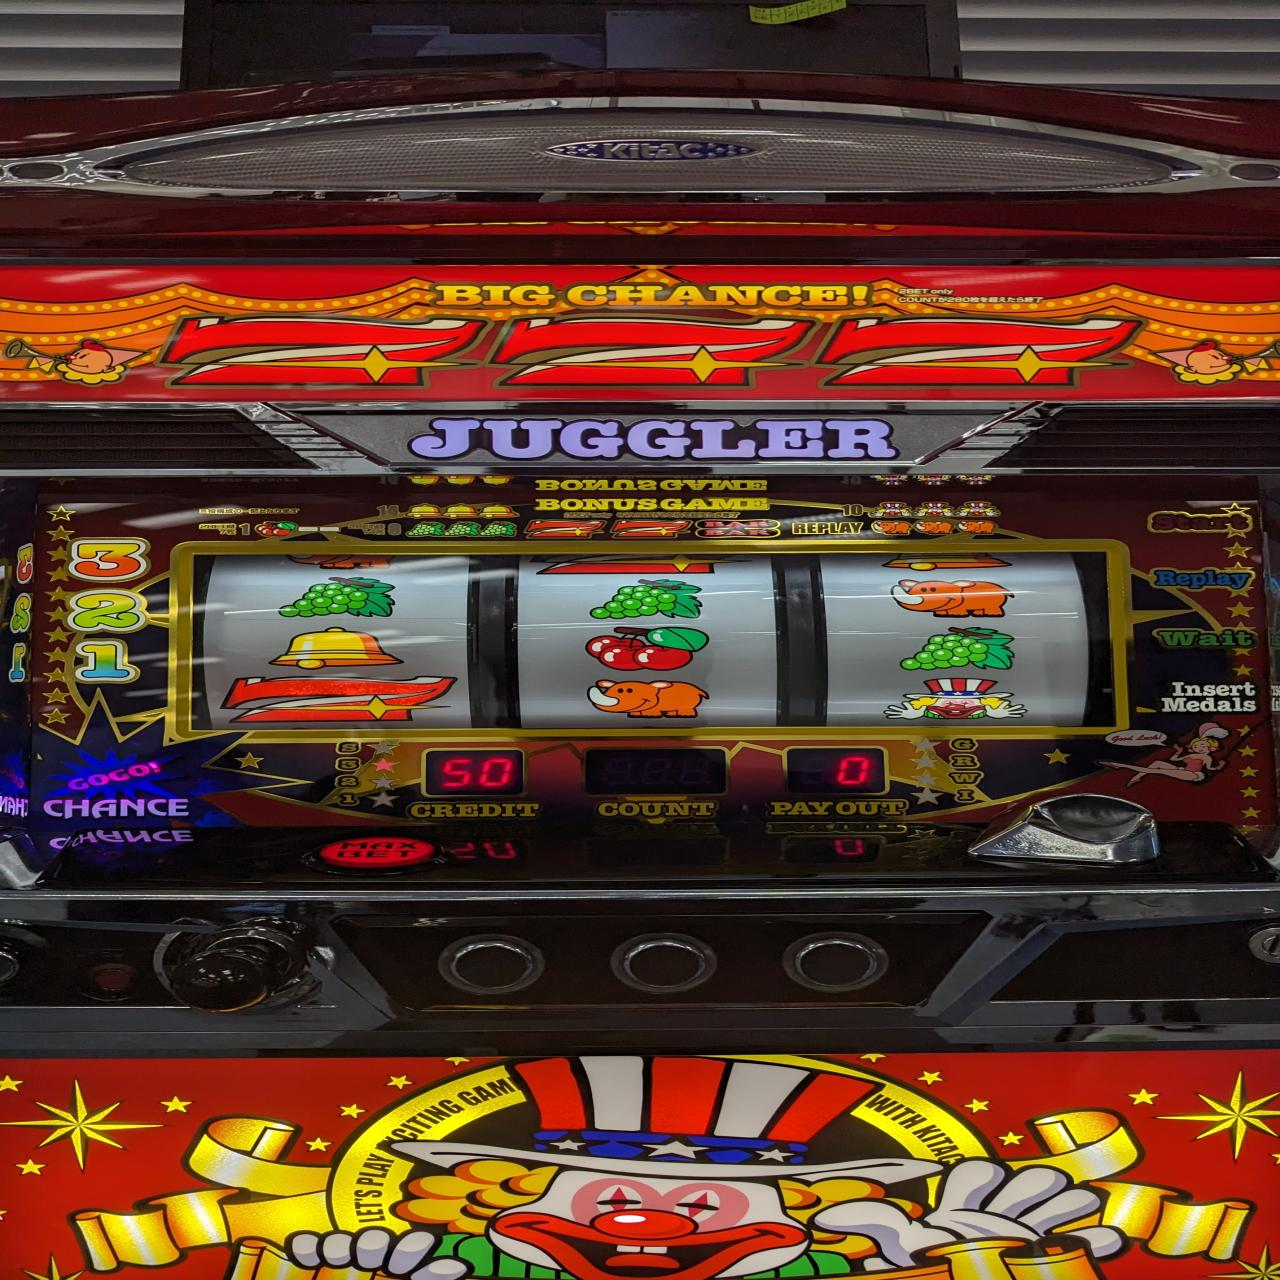7: (215, 675, 454, 727), (278, 573, 399, 620), (586, 576, 704, 621), (897, 625, 1017, 669)
8: (583, 680, 716, 722), (886, 579, 1020, 618)
Display: (178, 544, 1118, 729)
bell: (265, 625, 404, 669)
cherry: (581, 626, 712, 670)
clown: (879, 678, 1029, 723)
